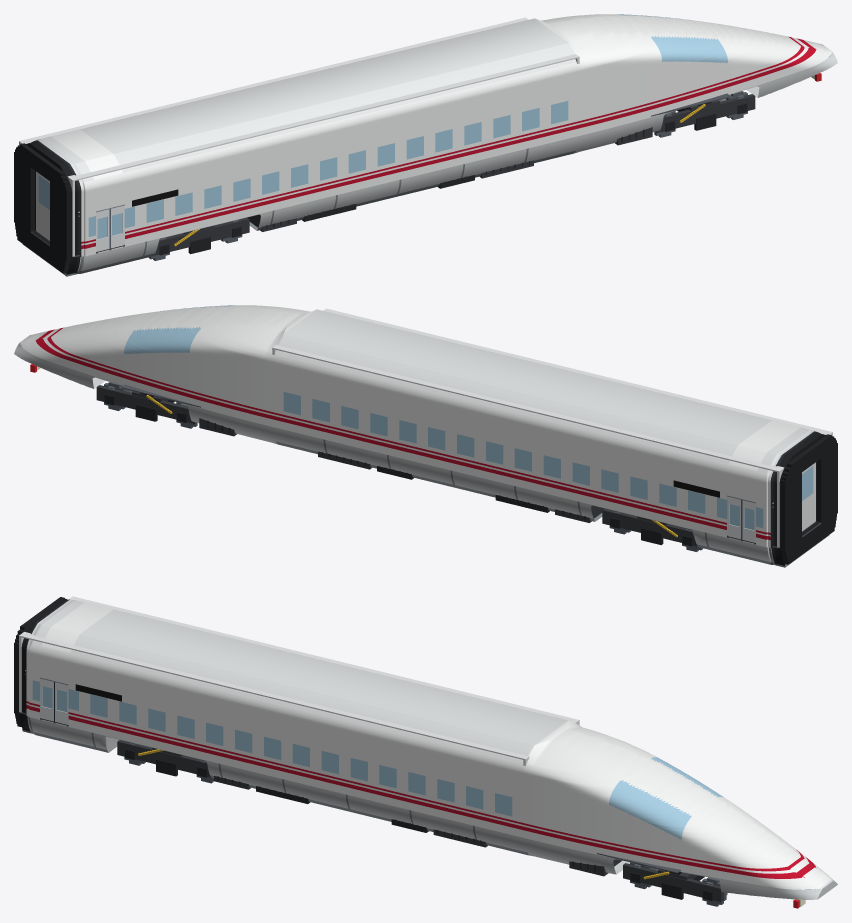
The model's file is fuxing_front.obj.
The picture shows the model from 3 angles, top to bottom: view 1: azimuth 30°, elevation 25°; view 2: azimuth 150°, elevation 25°; view 3: azimuth 330°, elevation 25°; orthographic projection.
Parts seen in each view (by area): view 1: SHELL, SHELL_diaphragm, SHELL_ceiling, BOGEY_FRONT, BOGEY_REAR, FRAME, CONNECTING_DOOR_1_CG_CR_TOGGLE_TL_0.98_Z, EXTERNAL_DOOR_4_CG_DR1_TOGGLE_TL_0.44_X, EXTERNAL_DOOR_3_CG_DR1_TOGGLE_TL_-0.44_X; view 2: SHELL, SHELL_diaphragm, SHELL_ceiling, BOGEY_FRONT, BOGEY_REAR, FRAME, CONNECTING_DOOR_1_CG_CR_TOGGLE_TL_0.98_Z, EXTERNAL_DOOR_7_CG_DL1_TOGGLE_TL_0.44_X, EXTERNAL_DOOR_6_CG_DL1_TOGGLE_TL_-0.44_X; view 3: SHELL, SHELL_ceiling, BOGEY_FRONT, BOGEY_REAR, FRAME, EXTERNAL_DOOR_3_CG_DR1_TOGGLE_TL_-0.44_X.
Part boxes in pixels (left/top/right/bottom): SHELL: left=22, top=14, right=837, bottom=276; SHELL_diaphragm: left=14, top=143, right=70, bottom=273; SHELL_ceiling: left=21, top=18, right=577, bottom=180; BOGEY_FRONT: left=655, top=94, right=755, bottom=132; BOGEY_REAR: left=154, top=217, right=249, bottom=255; FRAME: left=96, top=127, right=652, bottom=252; CONNECTING_DOOR_1_CG_CR_TOGGLE_TL_0.98_Z: left=37, top=172, right=49, bottom=239; EXTERNAL_DOOR_4_CG_DR1_TOGGLE_TL_0.44_X: left=110, top=205, right=124, bottom=248; EXTERNAL_DOOR_3_CG_DR1_TOGGLE_TL_-0.44_X: left=96, top=209, right=110, bottom=251; SHELL: left=14, top=305, right=829, bottom=567; SHELL_diaphragm: left=781, top=434, right=837, bottom=564; SHELL_ceiling: left=274, top=309, right=830, bottom=471; BOGEY_FRONT: left=96, top=385, right=196, bottom=423; BOGEY_REAR: left=602, top=508, right=697, bottom=546; FRAME: left=199, top=418, right=755, bottom=543; CONNECTING_DOOR_1_CG_CR_TOGGLE_TL_0.98_Z: left=802, top=463, right=814, bottom=530; EXTERNAL_DOOR_7_CG_DL1_TOGGLE_TL_0.44_X: left=727, top=496, right=741, bottom=539; EXTERNAL_DOOR_6_CG_DL1_TOGGLE_TL_-0.44_X: left=741, top=500, right=755, bottom=542; SHELL: left=18, top=598, right=837, bottom=899; SHELL_ceiling: left=20, top=596, right=576, bottom=759; BOGEY_FRONT: left=623, top=863, right=723, bottom=901; BOGEY_REAR: left=117, top=740, right=210, bottom=777; FRAME: left=40, top=718, right=621, bottom=876; EXTERNAL_DOOR_3_CG_DR1_TOGGLE_TL_-0.44_X: left=40, top=678, right=54, bottom=721.
Size of the model in its own units: 27.26 by 4 by 3.38.
Materials: 1 (1 with a texture image).
